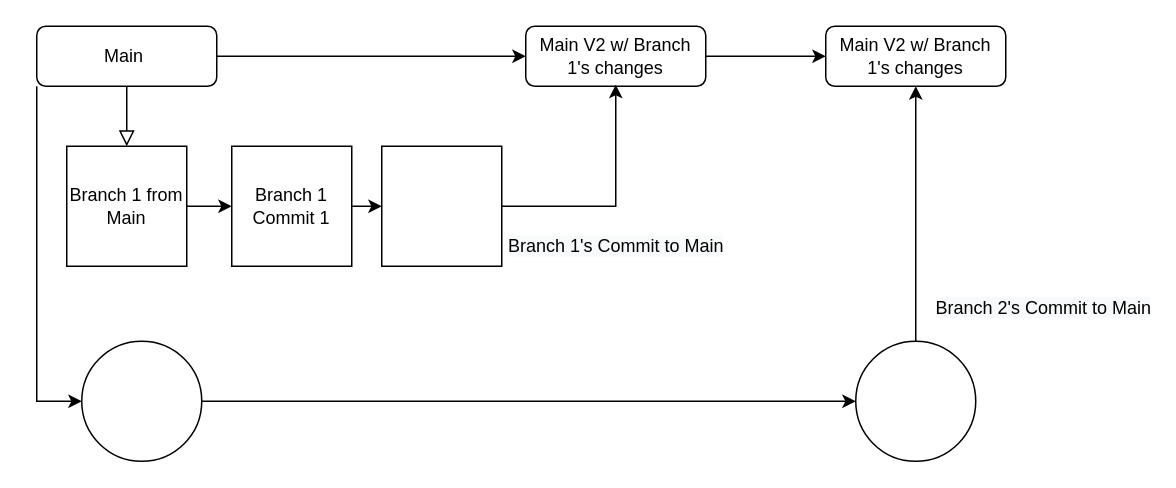
The diagram is 1176 pixels wide and 488 high, and some of its shapes have lost their labels. Each missing label, with the centre of its shape:
Branch 1 Commit 2: [441,205]
Branch 2 from Main: [141,400]
